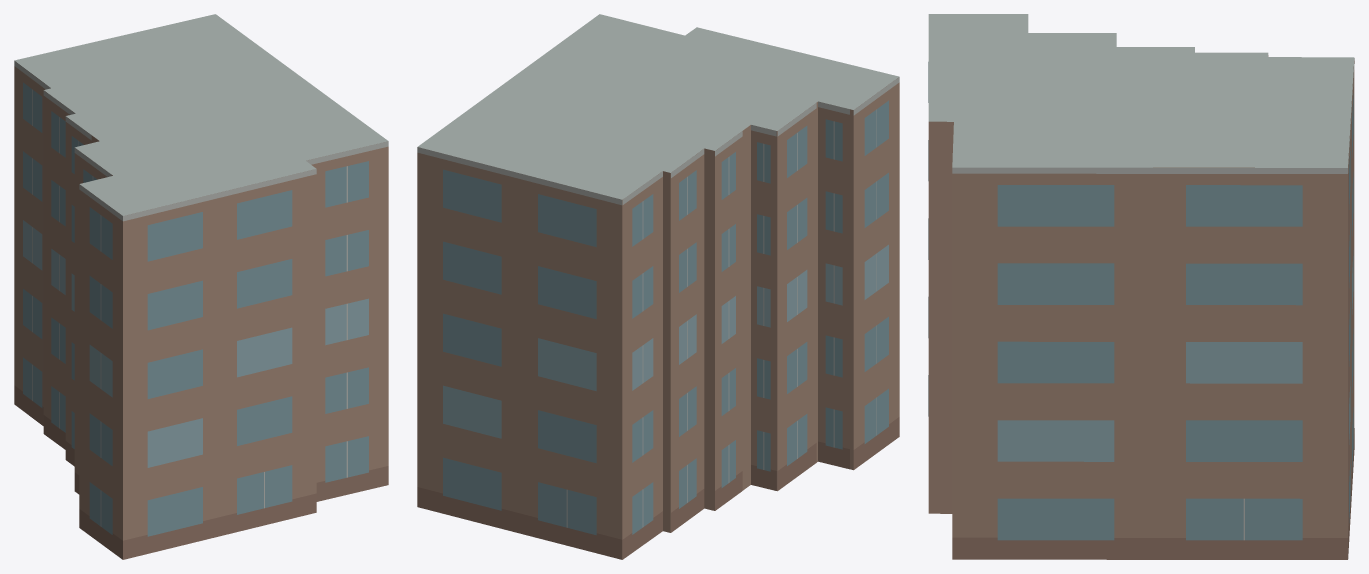
The model's file is survey-upis-32778597.glb.
3 views of the same model, side by side, from view 1: azimuth 30°, elevation 25°; view 2: azimuth 150°, elevation 25°; view 3: azimuth 270°, elevation 25° (orthographic). The views are drawn at different scales.
Parts seen in each view (by area): view 1: survey-upis-32778597.tmp; view 2: survey-upis-32778597.tmp; view 3: survey-upis-32778597.tmp.
Part boxes in pixels (bbox=[...]): survey-upis-32778597.tmp: bbox=[14, 14, 388, 559]; survey-upis-32778597.tmp: bbox=[417, 14, 899, 559]; survey-upis-32778597.tmp: bbox=[928, 14, 1354, 559].
Bounding box in the file's own units: 13.12 × 15.58 × 15.35.
